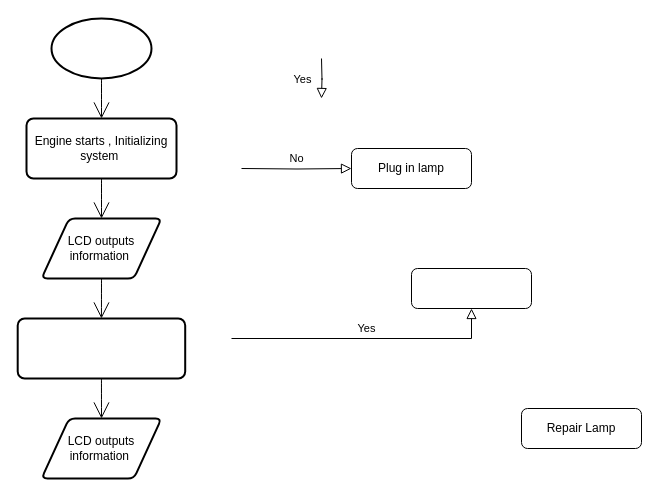
The diagram is 660 pixels wide and 496 high, and some of its shapes have lost their labels. Here are the shapes that lost their labels. From the top down, the centre of each, then its label:
the point at 101,48: start
the point at 471,288: Replace Bulb
the point at 101,348: GPS analyses the vehicle coordinates
